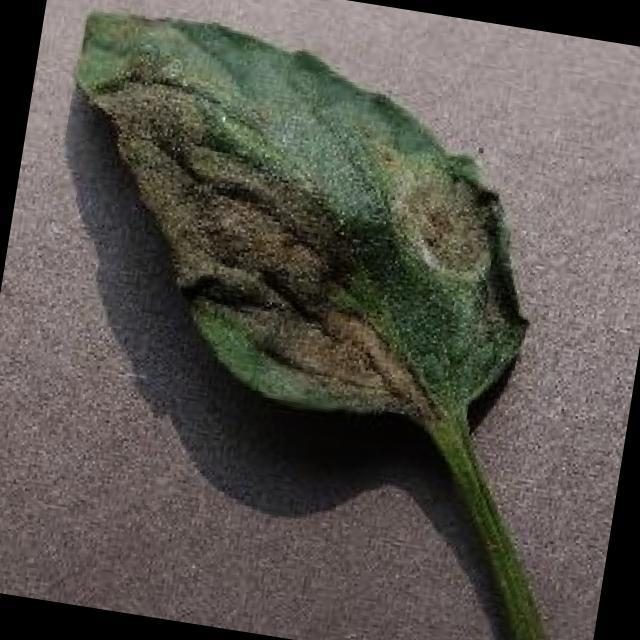Tomato late blight leaf: (29, 0, 574, 447)
